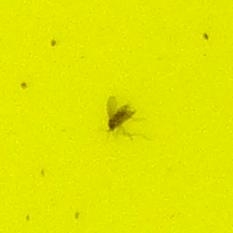Nematocera: (100, 100, 133, 133)
